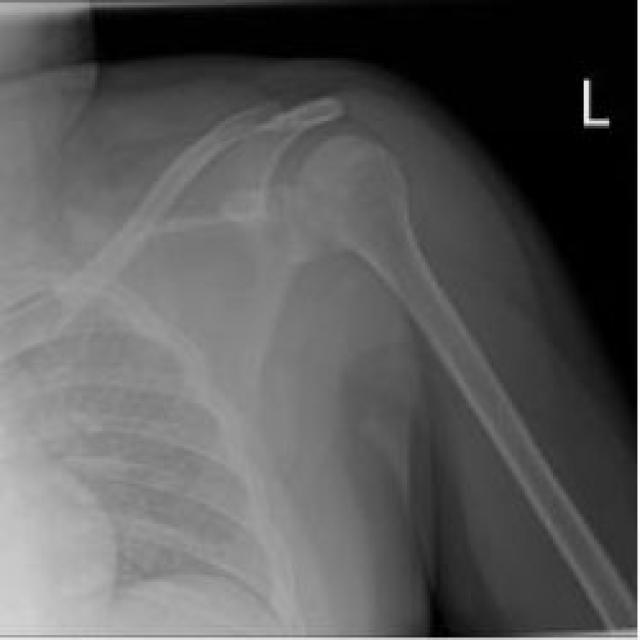fracture: (236, 78, 411, 232)
